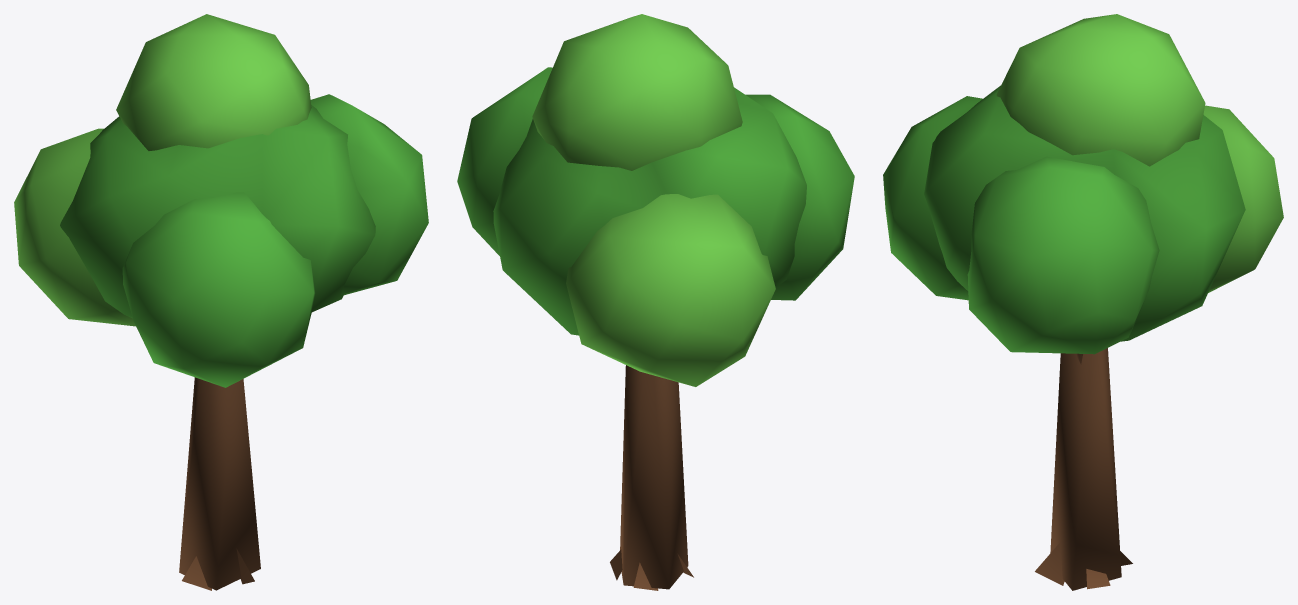
File: md_oak_lod.glb
3 views of the same model, side by side, from view 1: azimuth 30°, elevation 25°; view 2: azimuth 150°, elevation 25°; view 3: azimuth 270°, elevation 25° (orthographic). The views are drawn at different scales.
Visible parts, largest first — view 1: oak_lod; view 2: oak_lod; view 3: oak_lod.
Part boxes in pixels (x1,y1,x2,y2): oak_lod: (14, 14, 428, 590); oak_lod: (457, 14, 854, 590); oak_lod: (883, 14, 1283, 590).
Size of the model in its own units: 4.32 by 6.74 by 4.38.
